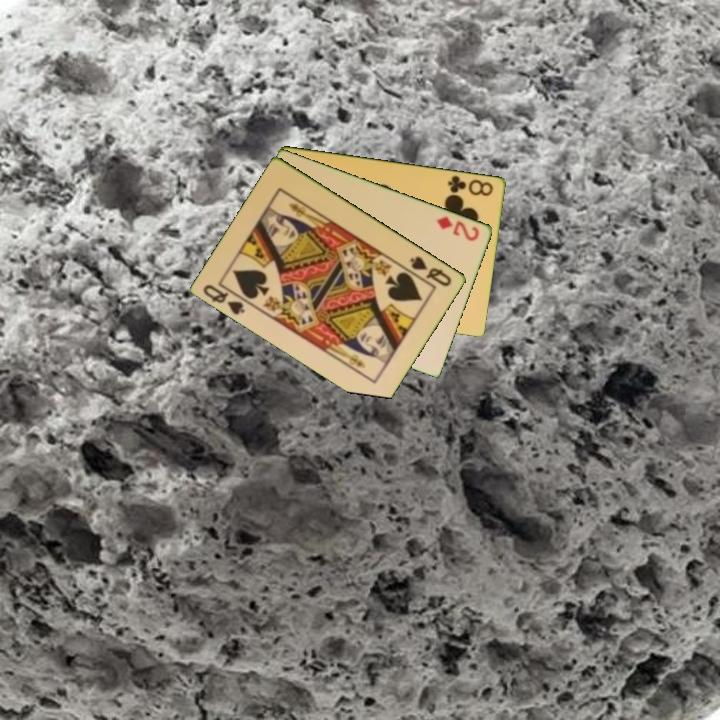2d: (433, 212, 483, 244)
8c: (444, 172, 496, 199)
Qs: (406, 252, 455, 289), (200, 281, 248, 318)
